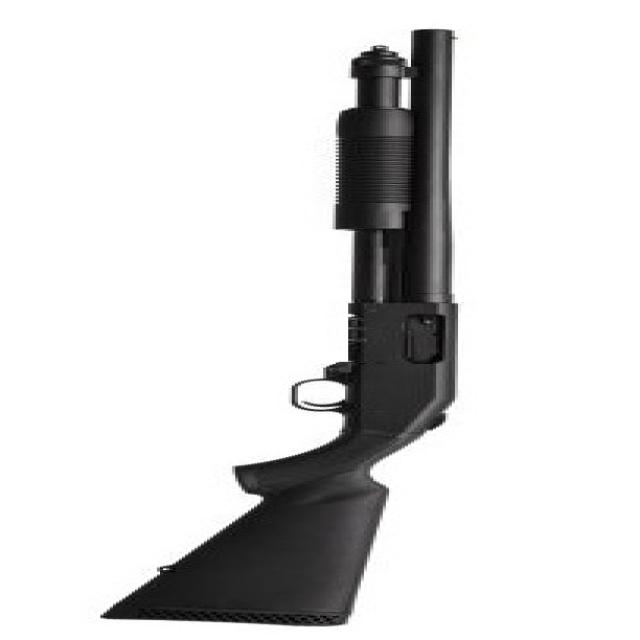rifle: (89, 21, 486, 629)
